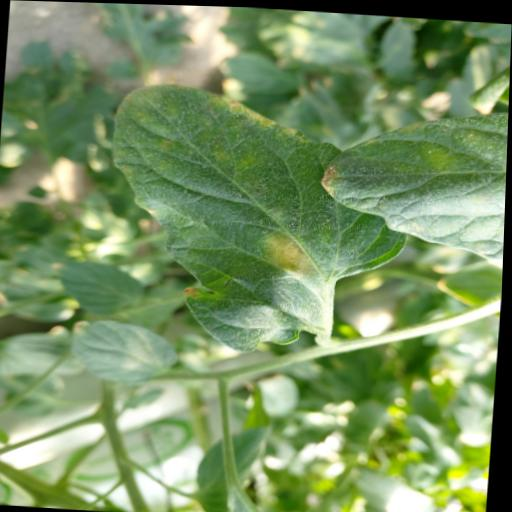Leaf Mold: (96, 78, 415, 359), (317, 99, 509, 265), (69, 317, 181, 385)
